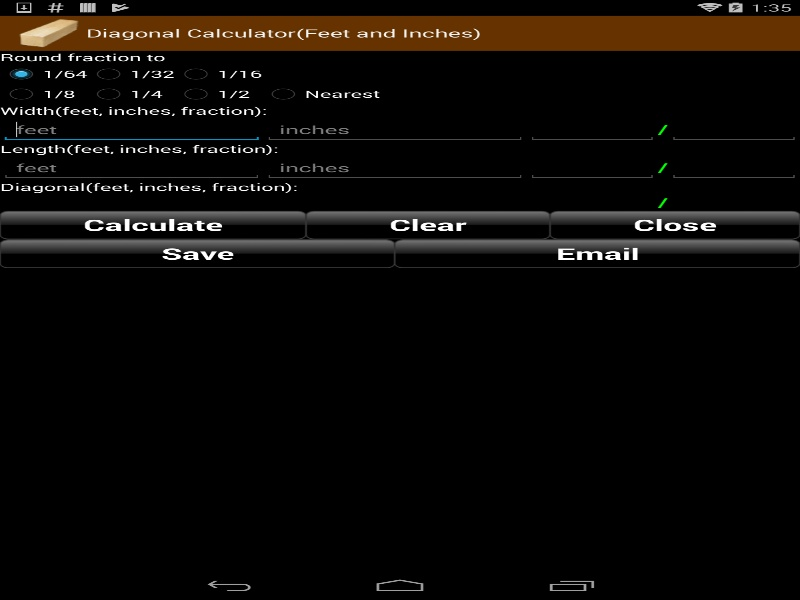Button: (394, 239, 800, 268), (0, 239, 394, 268), (0, 210, 306, 239), (550, 210, 800, 239), (306, 210, 550, 239)
Input: (0, 117, 263, 142), (263, 117, 526, 142), (0, 155, 263, 180), (263, 155, 526, 180), (0, 195, 263, 210), (263, 195, 526, 210), (526, 117, 658, 142), (668, 117, 800, 142), (526, 155, 658, 180), (668, 155, 800, 180), (526, 195, 658, 210), (668, 195, 800, 210)
